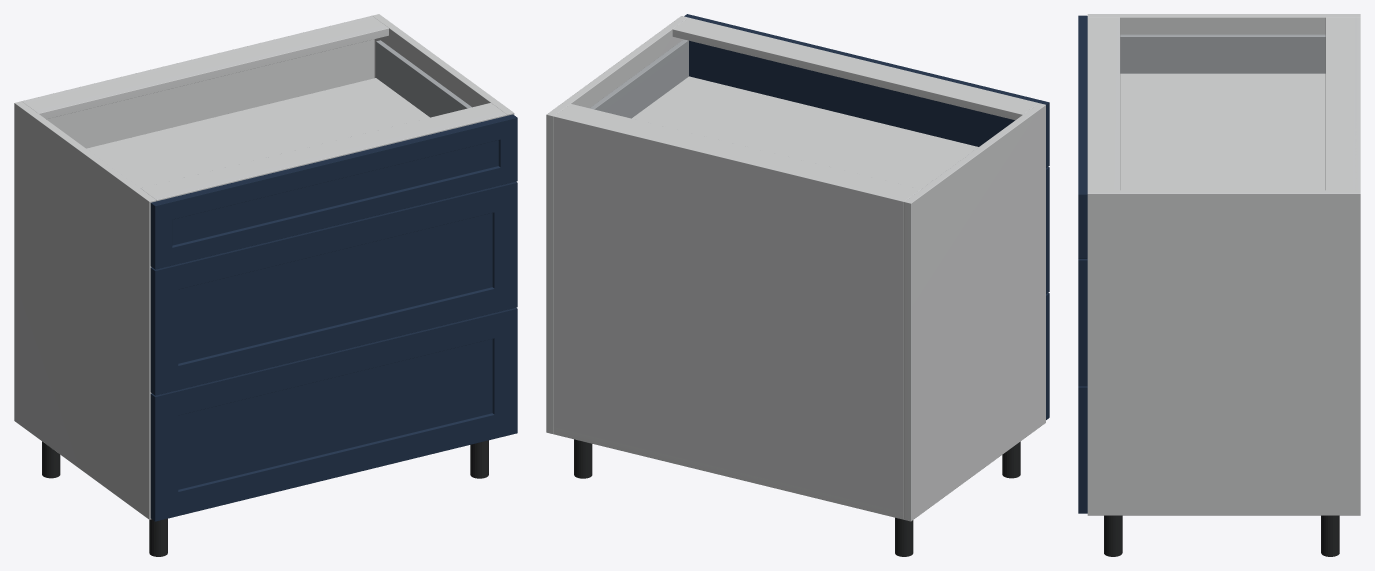
The model's file is oppein-pb-bss-3db36.glb.
3 views of the same model, side by side, from view 1: azimuth 30°, elevation 25°; view 2: azimuth 150°, elevation 25°; view 3: azimuth 270°, elevation 25° (orthographic).
Visible parts, largest first — view 1: Drawer front, Drawer front.001, Cabinet side, Drawer front.002, Drawer floor.002, Cabinet back, Top support rail, Top support rail.001, Drawer side.005, Cabinet side.001, Adjustable foot.001, Adjustable foot.003; view 2: Cabinet back, Cabinet side, Drawer floor.002, Drawer front.002, Top support rail.001, Cabinet side.001, Top support rail, Drawer side.005, Cabinet bottom, Adjustable foot, Adjustable foot.002; view 3: Cabinet side.001, Drawer floor.002, Drawer side.004, Top support rail.001, Top support rail, Cabinet side, Drawer front.002, Drawer front, Drawer front.001, Cabinet back, Adjustable foot.003, Adjustable foot.002.
Boxes of the visible parts, x1=… form: Drawer front: x1=150, y1=307, x2=517, y2=521; Drawer front.001: x1=150, y1=181, x2=517, y2=395; Cabinet side: x1=14, y1=101, x2=156, y2=519; Drawer front.002: x1=150, y1=114, x2=517, y2=269; Drawer floor.002: x1=86, y1=78, x2=429, y2=188; Cabinet back: x1=21, y1=15, x2=374, y2=148; Top support rail: x1=23, y1=17, x2=388, y2=119; Top support rail.001: x1=141, y1=103, x2=506, y2=201; Drawer side.005: x1=376, y1=40, x2=471, y2=117; Cabinet side.001: x1=372, y1=14, x2=514, y2=115; Adjustable foot.001: x1=149, y1=518, x2=167, y2=556; Adjustable foot.003: x1=470, y1=440, x2=488, y2=478; Cabinet back: x1=553, y1=114, x2=905, y2=519; Cabinet side: x1=904, y1=103, x2=1045, y2=521; Drawer floor.002: x1=632, y1=76, x2=978, y2=188; Drawer front.002: x1=684, y1=14, x2=1049, y2=167; Top support rail.001: x1=672, y1=17, x2=1038, y2=120; Cabinet side.001: x1=546, y1=16, x2=688, y2=434; Top support rail: x1=556, y1=104, x2=920, y2=199; Drawer side.005: x1=590, y1=39, x2=688, y2=118; Cabinet bottom: x1=553, y1=427, x2=903, y2=518; Adjustable foot: x1=895, y1=517, x2=913, y2=556; Adjustable foot.002: x1=574, y1=439, x2=592, y2=478; Cabinet side.001: x1=1087, y1=190, x2=1360, y2=515; Drawer floor.002: x1=1120, y1=73, x2=1325, y2=190; Drawer side.004: x1=1120, y1=34, x2=1325, y2=73; Top support rail.001: x1=1087, y1=17, x2=1120, y2=190; Top support rail: x1=1325, y1=17, x2=1357, y2=190; Cabinet side: x1=1087, y1=14, x2=1360, y2=34; Drawer front.002: x1=1078, y1=15, x2=1087, y2=258; Drawer front: x1=1078, y1=386, x2=1087, y2=513; Drawer front.001: x1=1078, y1=259, x2=1087, y2=386; Cabinet back: x1=1355, y1=17, x2=1360, y2=190; Adjustable foot.003: x1=1104, y1=515, x2=1122, y2=556; Adjustable foot.002: x1=1321, y1=515, x2=1339, y2=556.
Bounding box in the file's own units: 0.9144 × 0.8763 × 0.6064.
